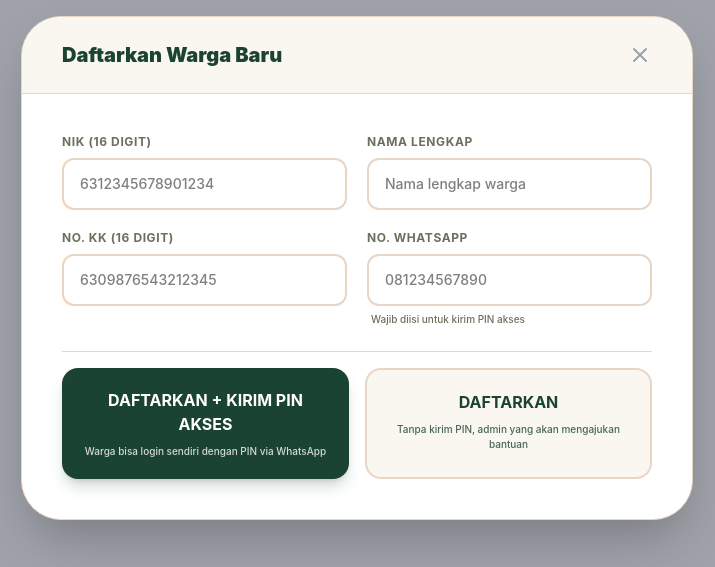
Scenario: RegistrationCitizenModal › validasi WA wajib diisi saat with_pin=true
The width and height of the screenshot is (715, 567).
Type "6301234567890123" into the field with placeholder "6312345678901234" at (204, 184), box [62,158,347,210]
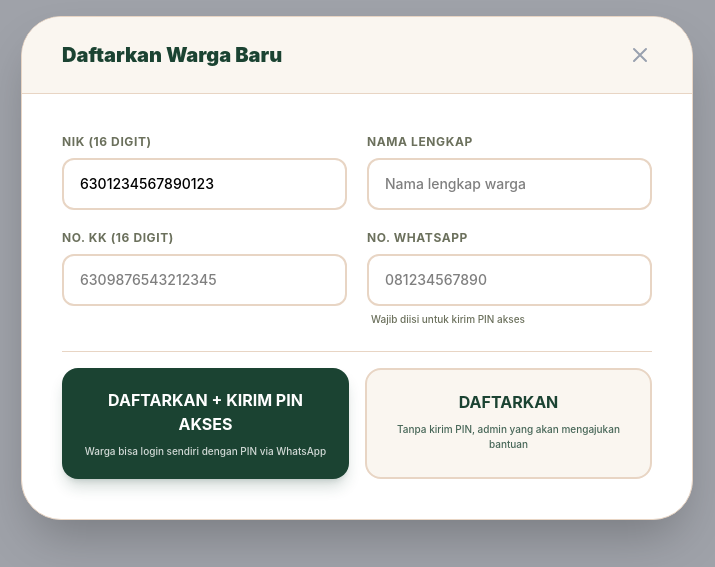
Type "Joko Widodo" into the field with placeholder "Nama lengkap warga" at (510, 184), box [367,158,652,210]
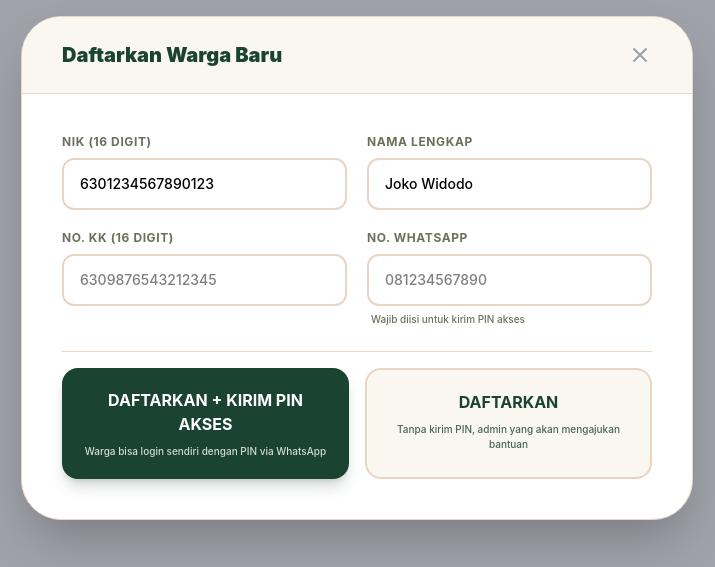
Type "6301234567890123" into the field with placeholder "6309876543212345" at (204, 280), box [62,254,347,306]
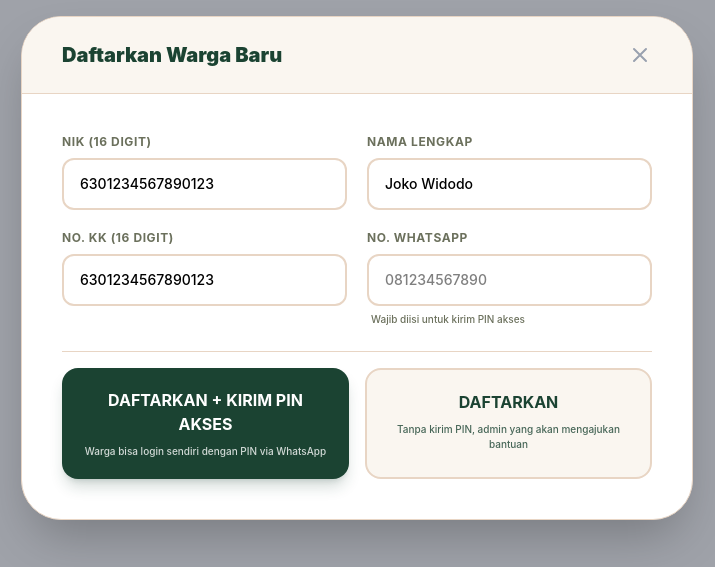
Click the button that starts with "DAFTARKAN + KIRIM PIN AKSES" at (206, 424), box [62,368,349,479]
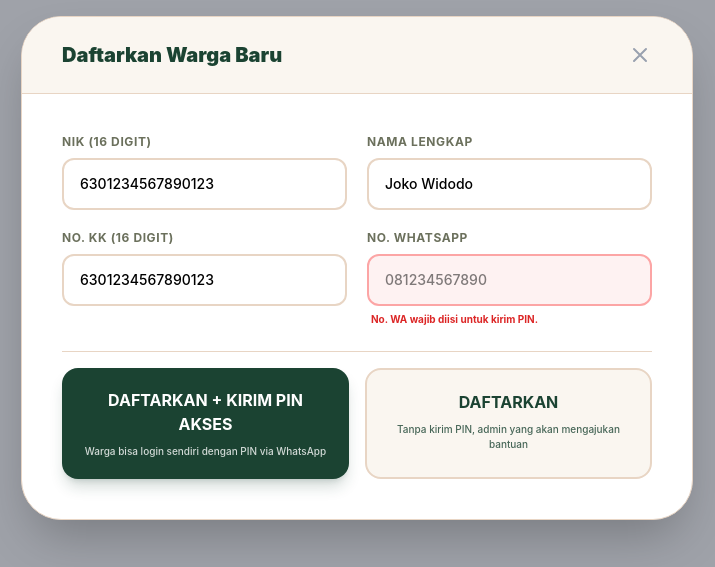
Result: the text "No. WA wajib diisi" is shown at [371,313,538,325]
